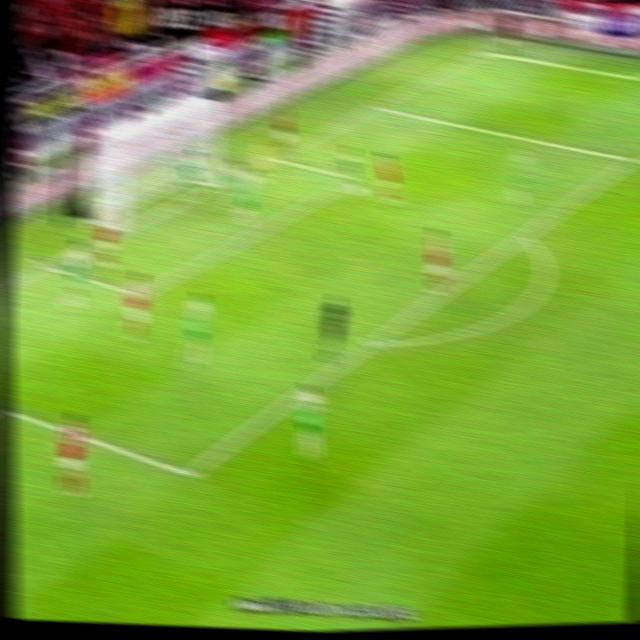bigarea_bottom_inner: (172, 457, 203, 490)
bigarea_top_inner: (620, 151, 640, 168)
bigarea_top_outter: (365, 96, 385, 114)
bottom_arc_area_intersection: (362, 331, 382, 353)
corner: (472, 44, 494, 56)
smallarea_bottom_outter: (33, 252, 60, 277)
smallarea_top_inner: (340, 170, 359, 188)
smallarea_top_outter: (262, 151, 280, 167)
top_arc_area_intersection: (515, 226, 532, 243)
